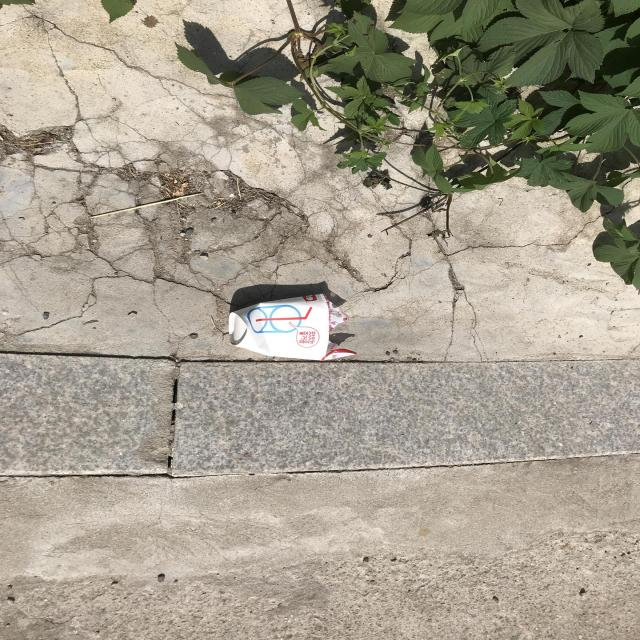paperpack: (228, 294, 356, 362)
